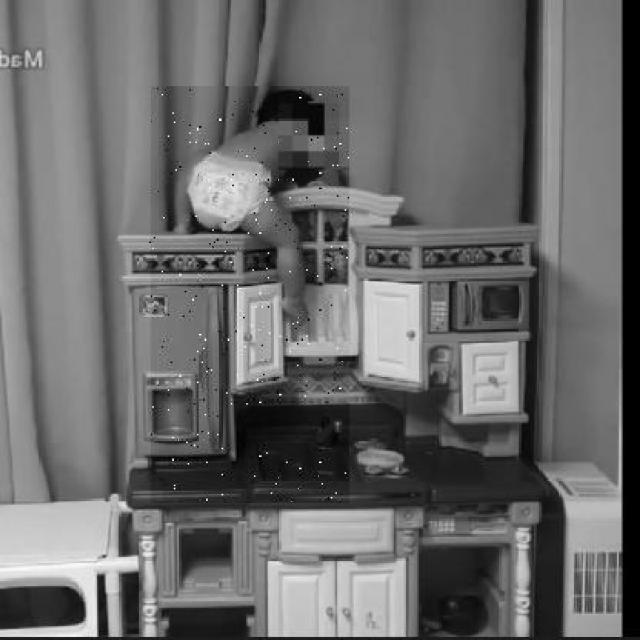child: (148, 86, 348, 503)
